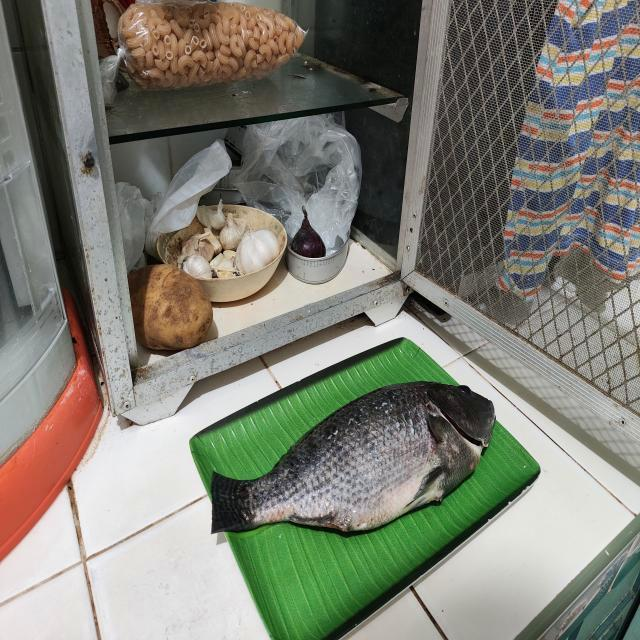fish: (211, 381, 496, 528)
garlic: (180, 201, 279, 275)
onion: (290, 212, 327, 259)
potato: (124, 264, 212, 349)
